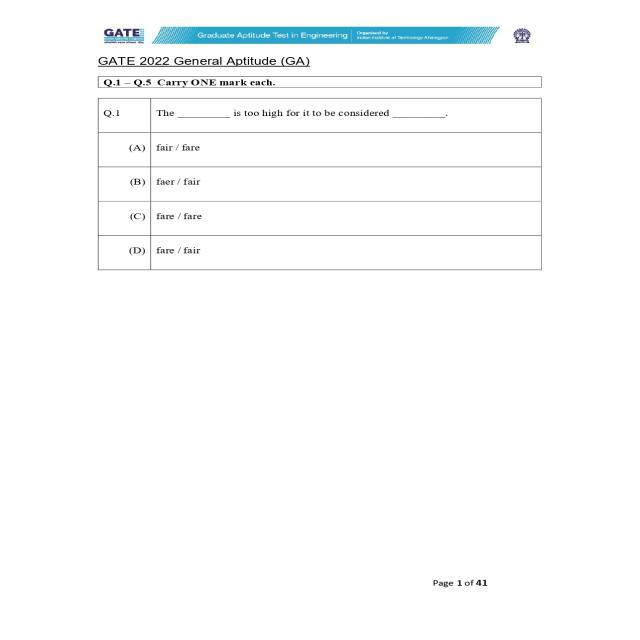Answer_Block: (99, 134, 538, 268)
Question_Answer_Block: (98, 97, 540, 268)
Question_Block: (98, 98, 540, 134)
Question_Paper_Area: (100, 97, 542, 268)
